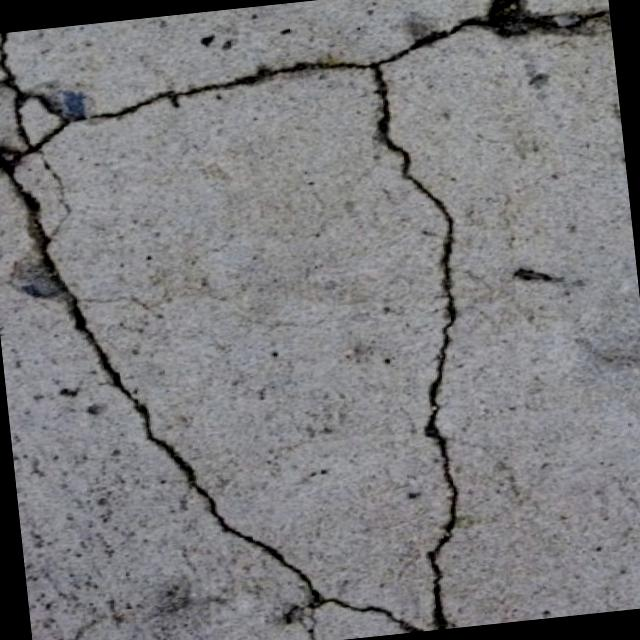crack: (63, 275, 316, 607), (368, 58, 497, 630), (0, 25, 95, 304), (75, 53, 375, 124), (366, 0, 611, 65), (269, 572, 426, 640)
